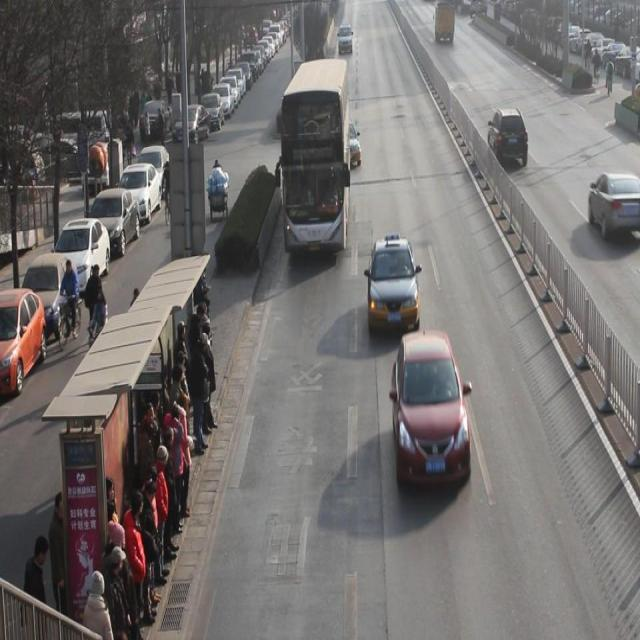car: (392, 332, 472, 495), (368, 238, 420, 337), (589, 172, 640, 240), (488, 109, 529, 168)
van: (279, 61, 346, 252)
